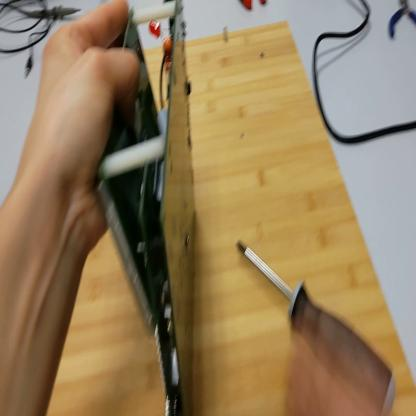hand: (26, 7, 141, 254), (283, 337, 401, 414)
low voltage board: (97, 5, 203, 414)
oscilloscope probe tip: (23, 6, 94, 21)
pliers: (390, 2, 416, 42), (241, 1, 267, 13)
screwdriver-: (235, 236, 396, 412)
working area: (47, 17, 416, 414)
